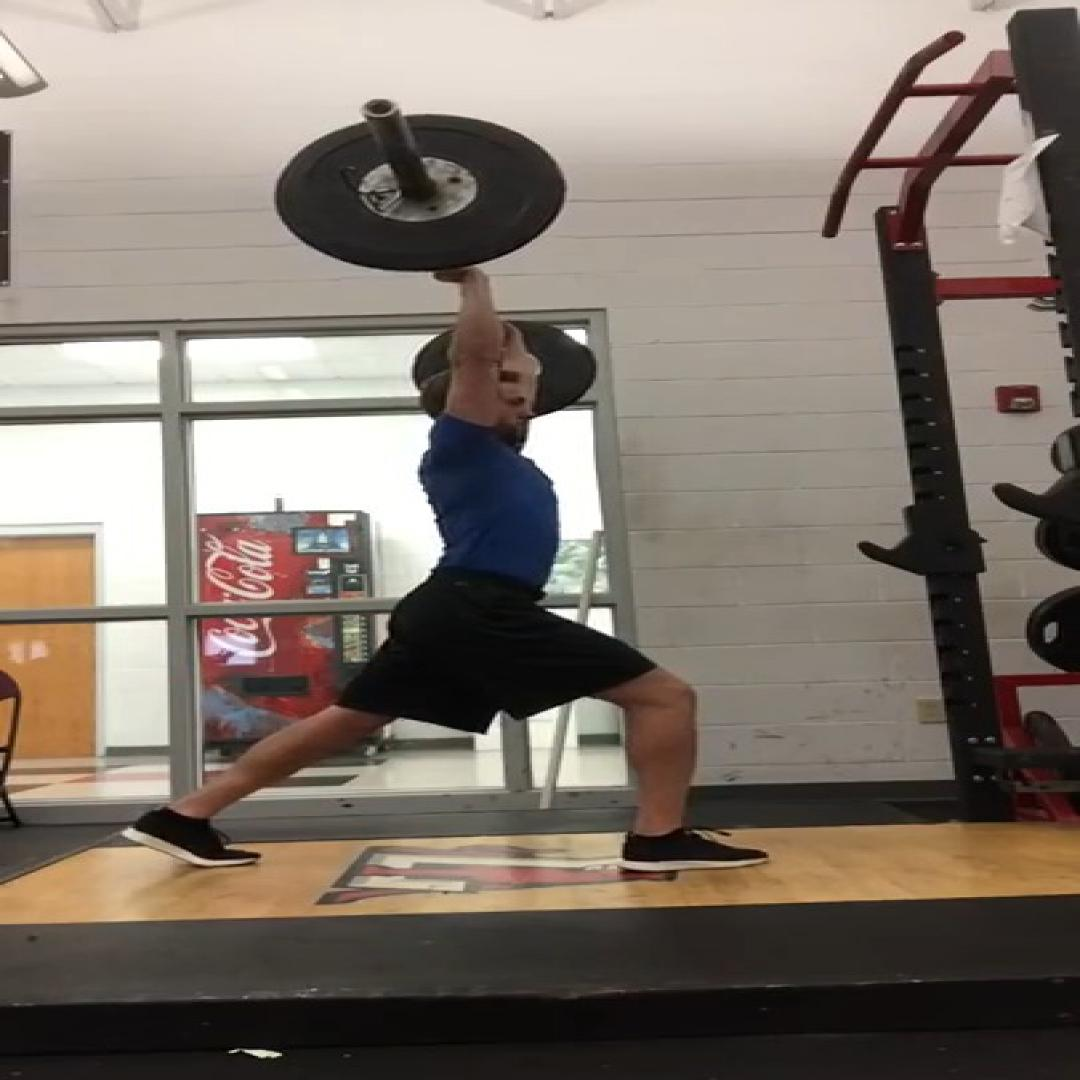Bar: (360, 98, 400, 118)
Barbell: (274, 114, 567, 272)
